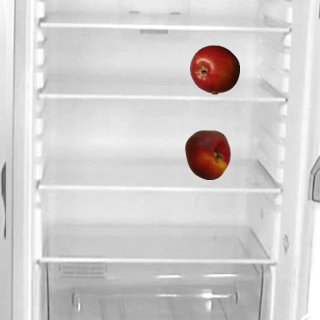Apple Braeburn: (189, 44, 239, 94)
Nectarine Flat: (182, 129, 232, 179)
